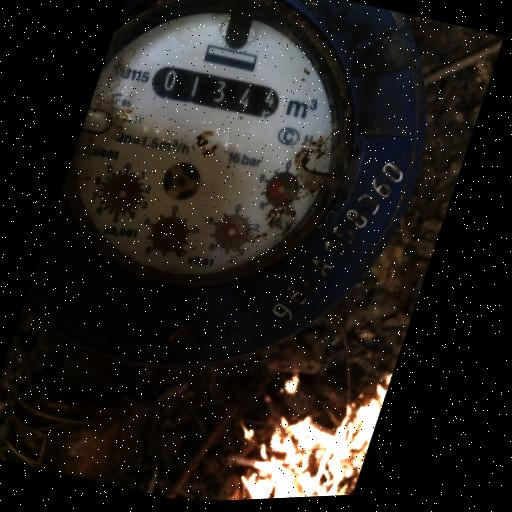0: (156, 66, 182, 100)
1: (182, 71, 206, 104)
3: (205, 76, 232, 110)
4: (254, 85, 281, 121), (232, 82, 257, 116)
border_water_meter_number: (145, 57, 285, 128)
